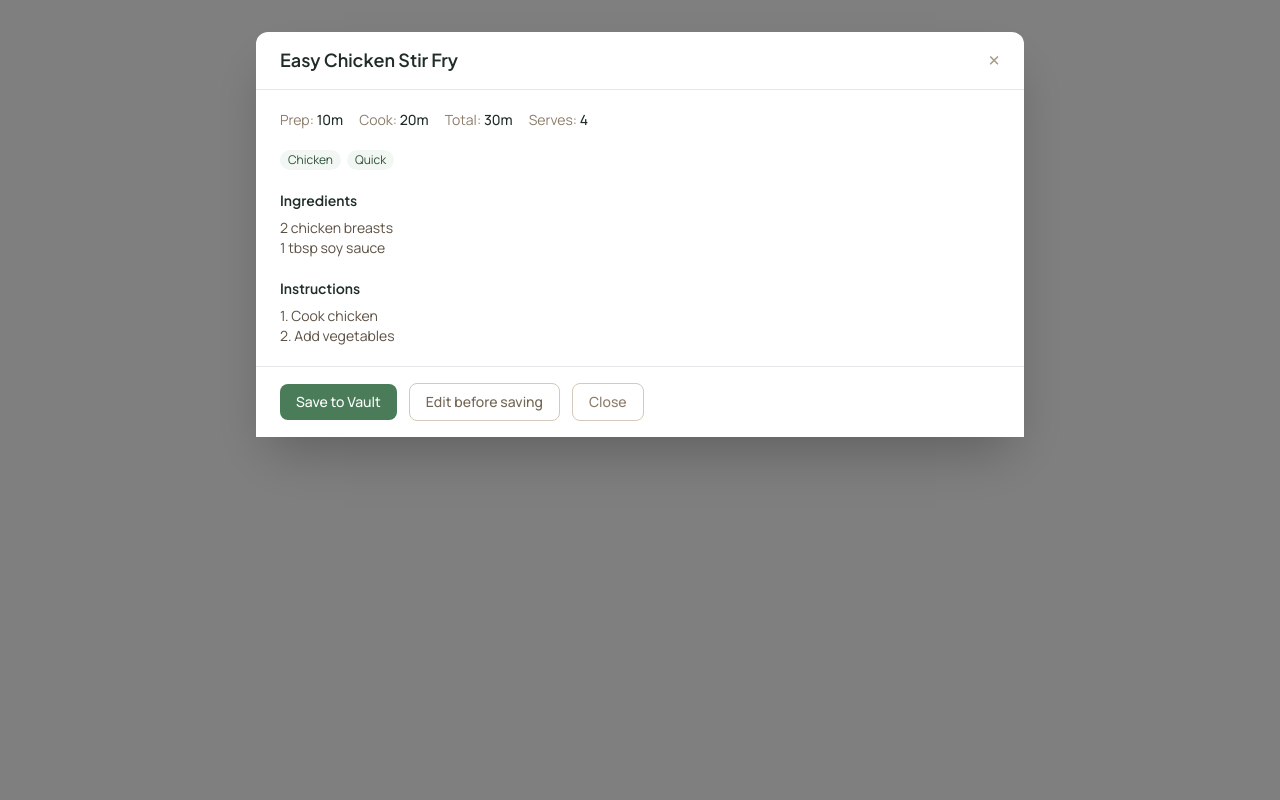
Scenario: T16 — Save success shows "Saved to vault" and view link › renders saved state after successful save
Click the button "Save to Vault" at (338, 402), box x1=280 y1=384 x2=397 y2=420
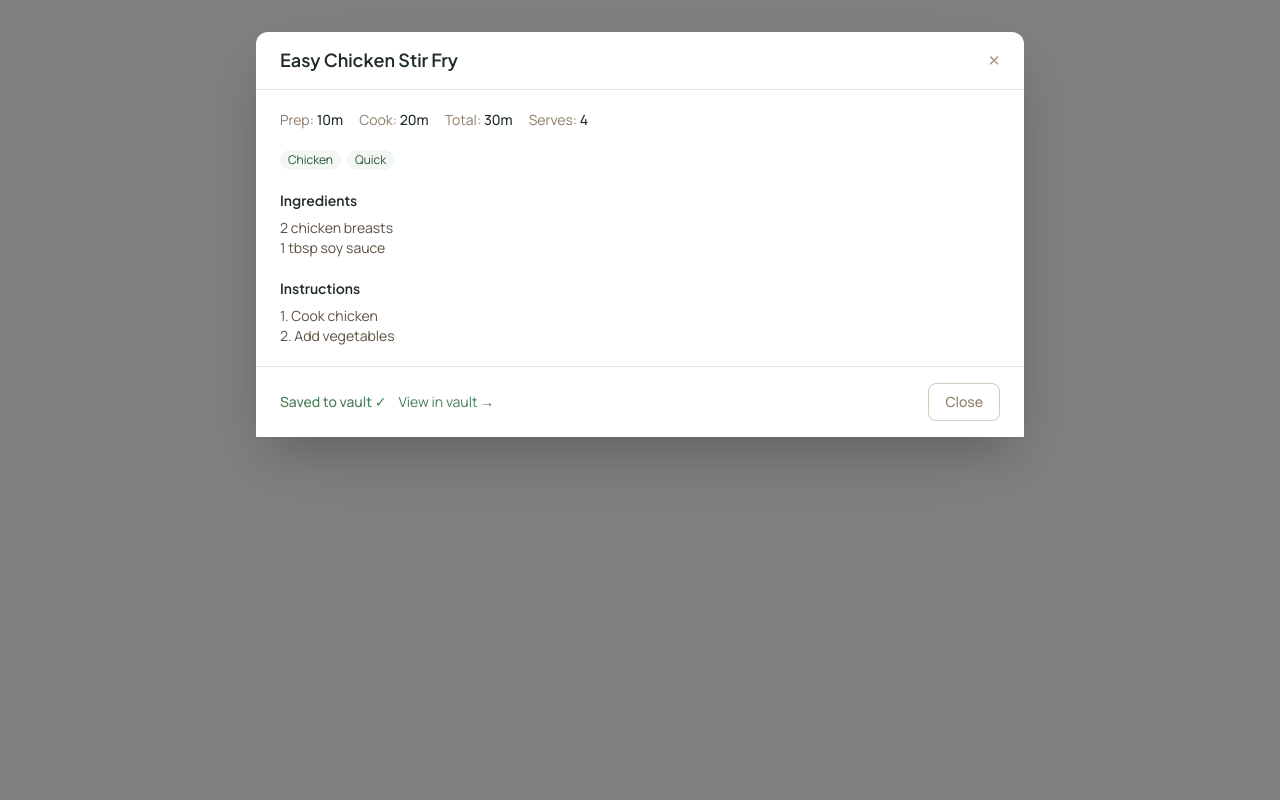
Now the text "Saved to vault ✓" is shown, box x1=280 y1=392 x2=387 y2=412
Now the link "View in vault →" is shown, box x1=399 y1=392 x2=494 y2=412
